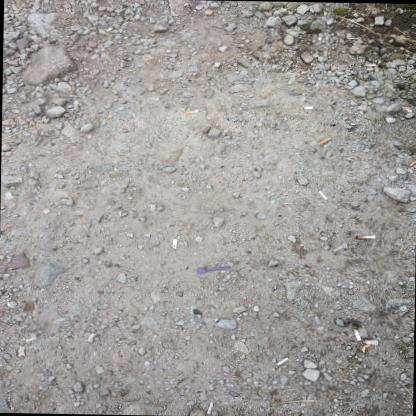Paper: (317, 137, 331, 145), (353, 327, 361, 341), (317, 190, 327, 200), (276, 357, 288, 365), (206, 401, 213, 414), (87, 332, 96, 342), (365, 340, 378, 346), (361, 344, 369, 352), (356, 236, 375, 239), (186, 109, 197, 114), (172, 239, 177, 249), (367, 64, 376, 67), (304, 106, 312, 109), (346, 37, 357, 39), (401, 107, 410, 109), (318, 37, 321, 41)
Plastic: (196, 266, 230, 273)
Waste: (242, 300, 254, 303)
